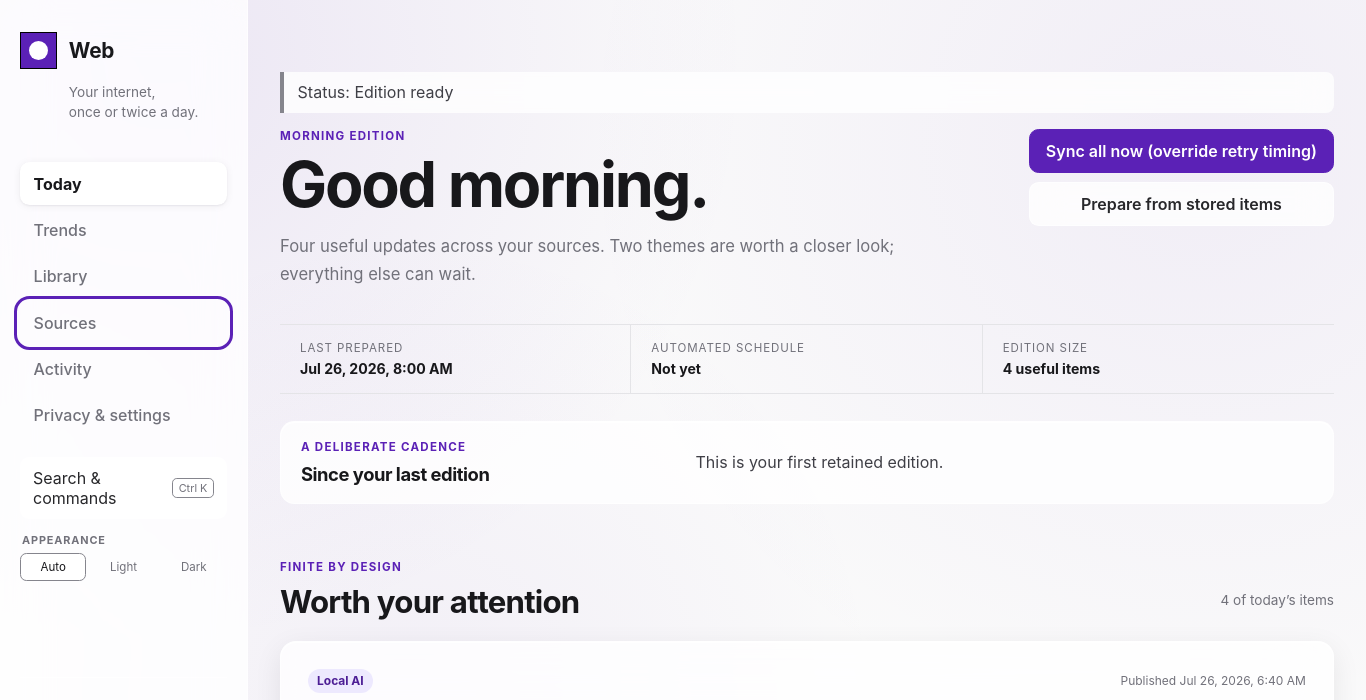
calm dashboard › opens the command palette from the keyboard, navigates with arrows, and restores focus
Expected: the heading "Good morning." is shown, [280, 146, 708, 222]
Expected: the button "Search & commands Ctrl K" is shown, [20, 457, 227, 519]
Step 1. Type keys "{Meta>}k{/Meta}"
Step 2. Type keys "{Control>}k{/Control}"
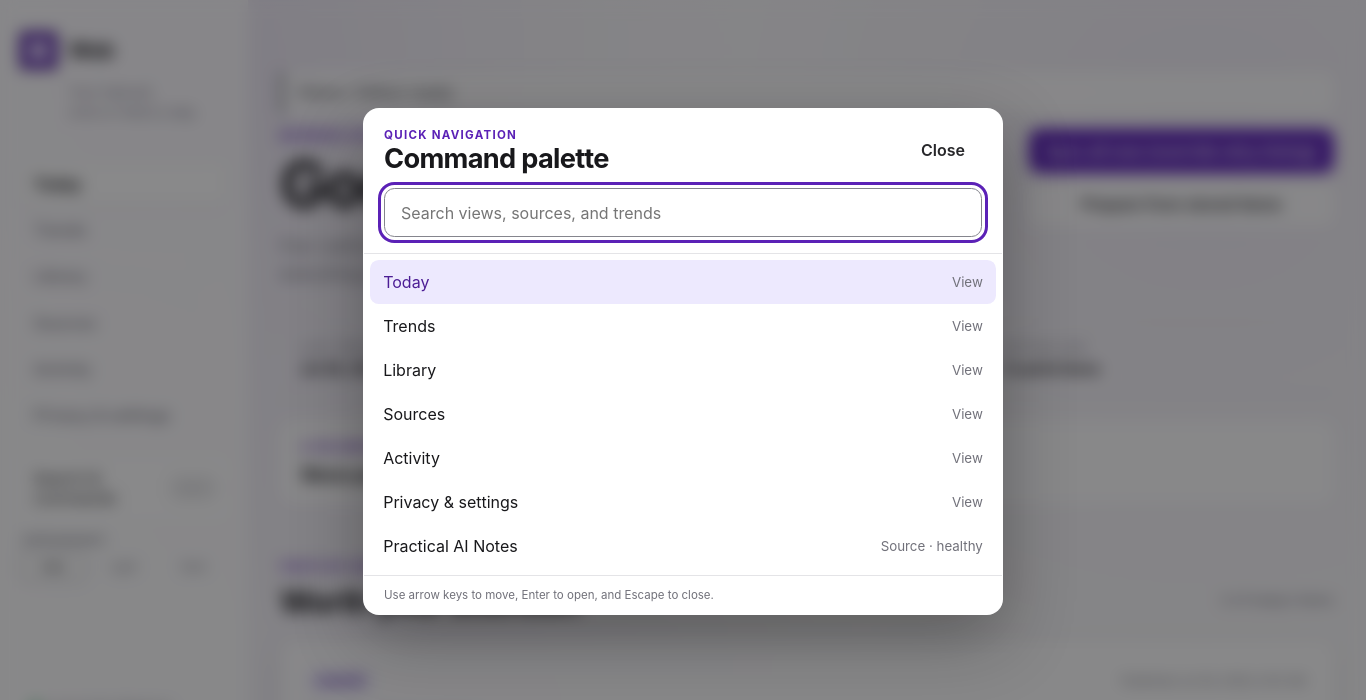
Expected: the text "Practical AI Notes" is shown, [383, 536, 518, 556]
Step 3. Press Arrowdown
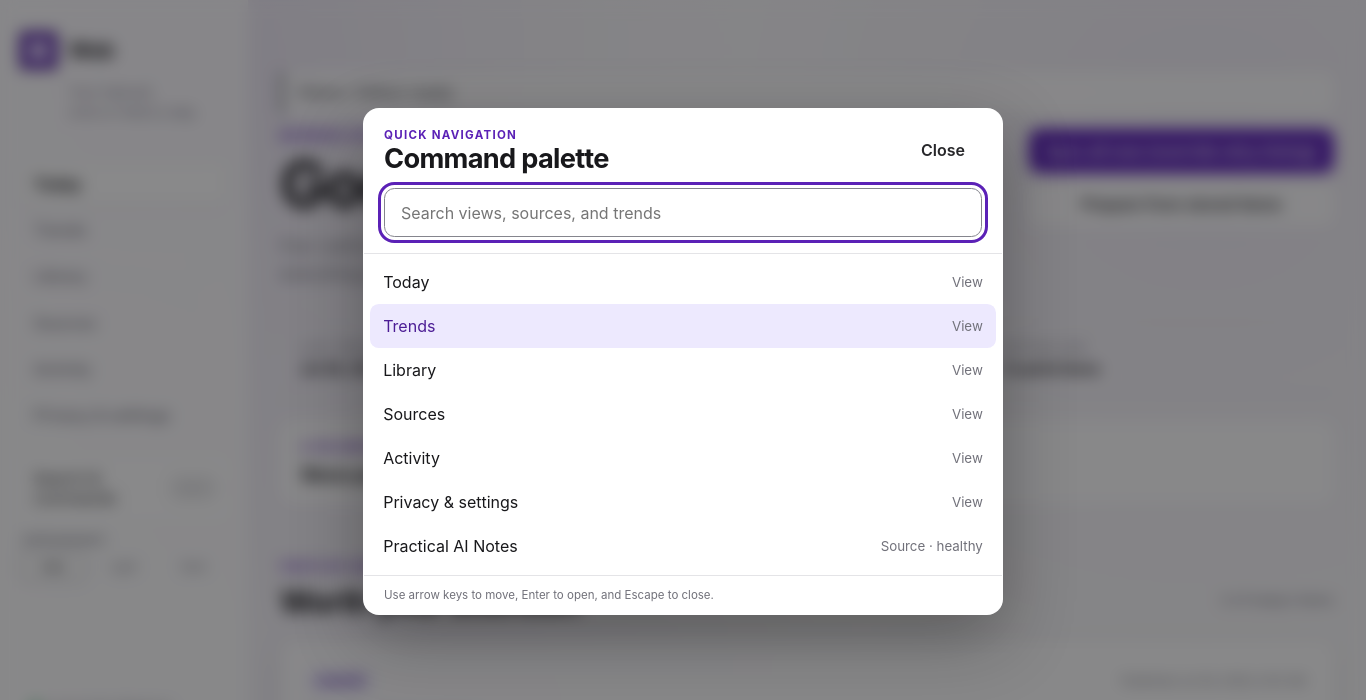
Expected: the option "Trends View" is selected, [370, 304, 996, 348]
Step 4. Press Escape
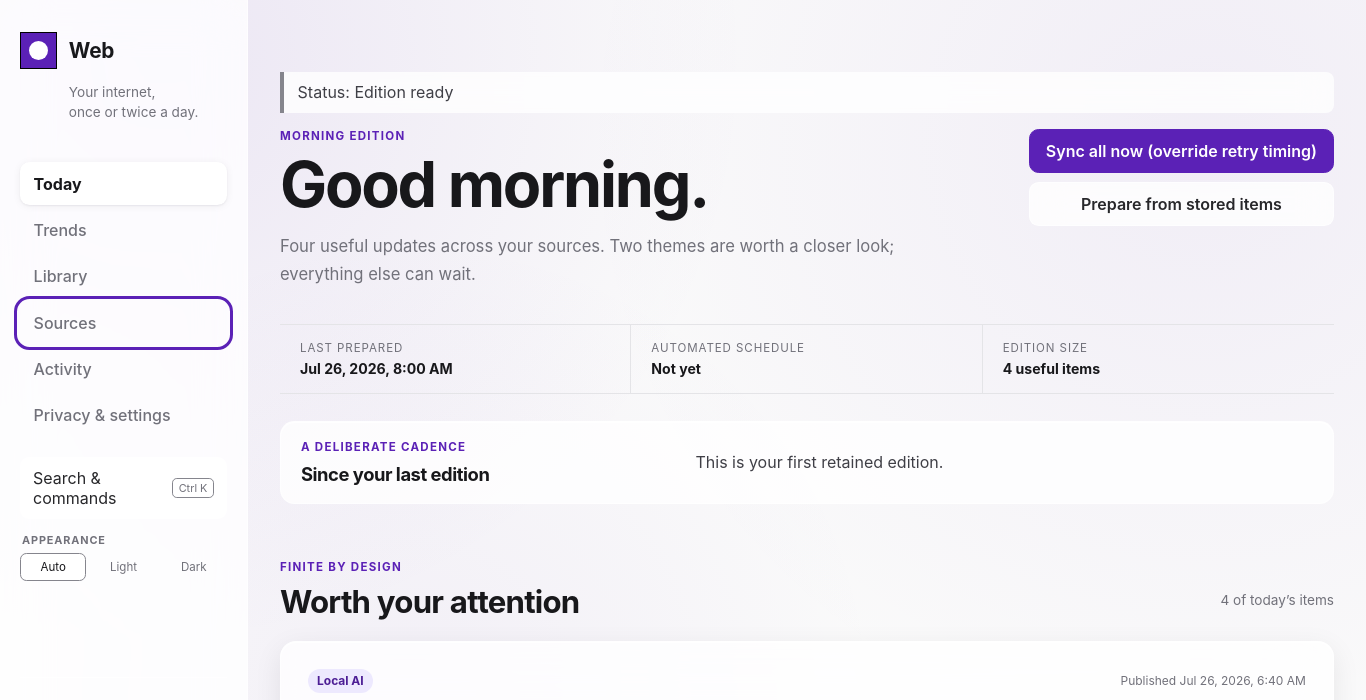
Expected: the dialog is gone
Step 5. Type keys "{Control>}k{/Control}"
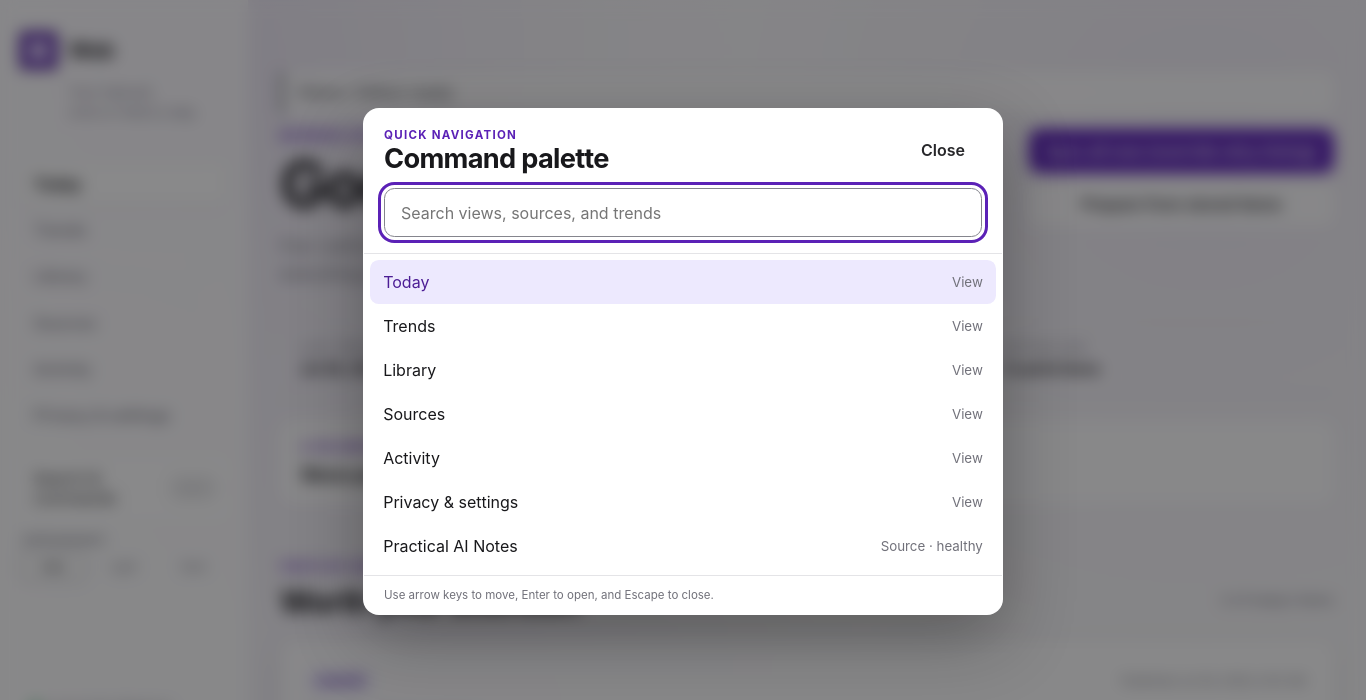
Step 6. Type "Trends" into the dropdown named "Search commands" → (683, 213), box [384, 188, 982, 238]
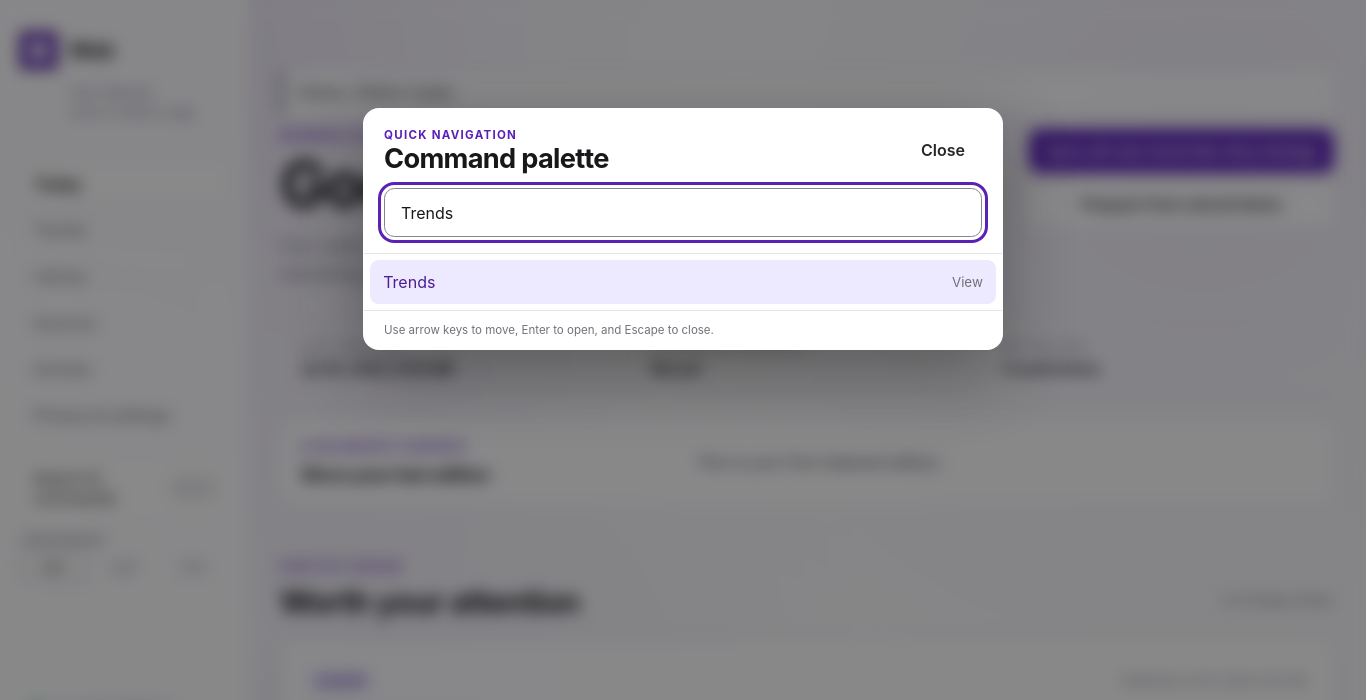
Step 7. Press Enter
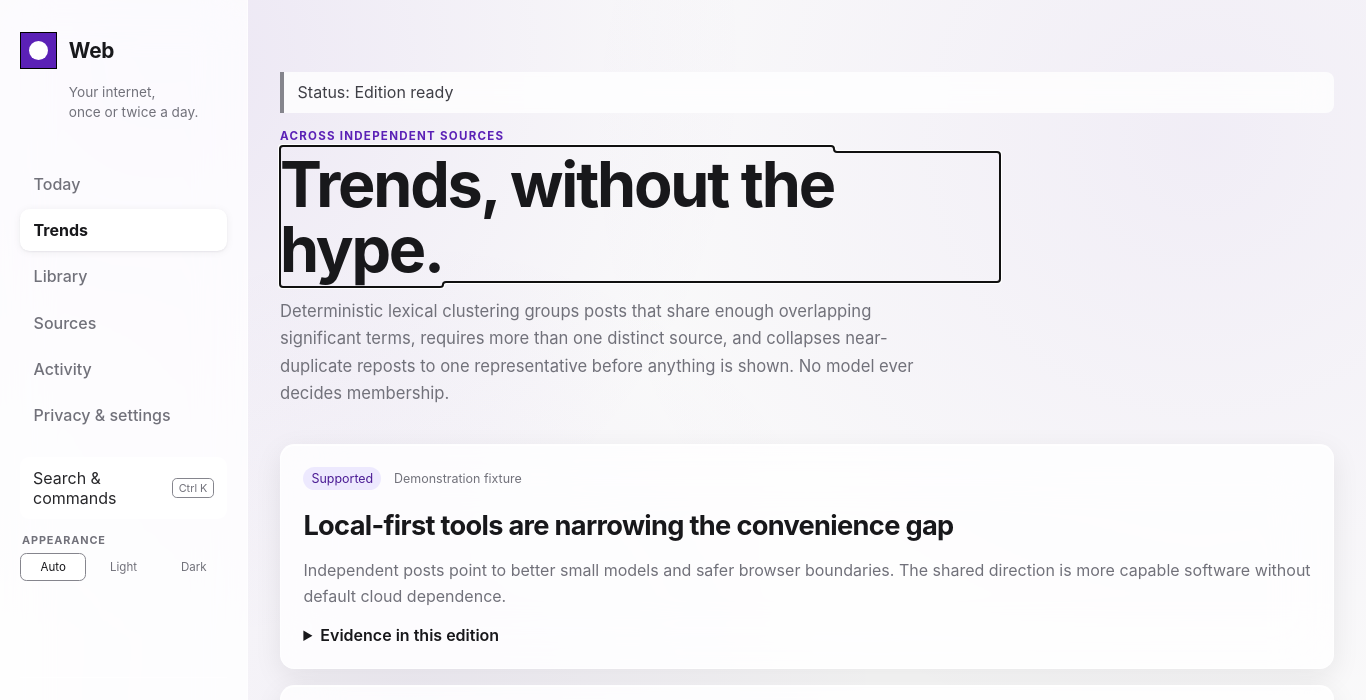
Expected: the dialog is gone
